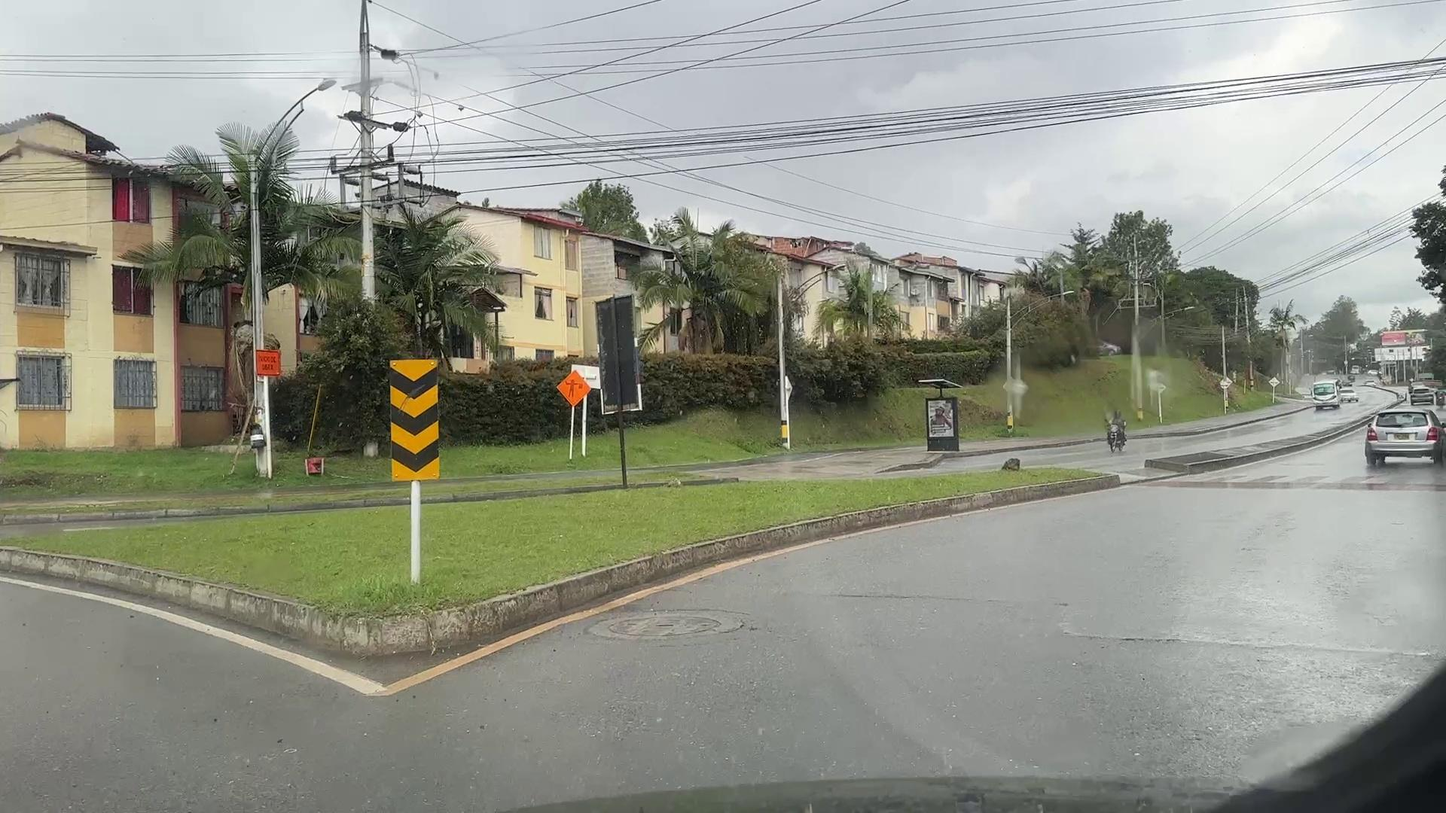registro: (609, 616, 719, 636)
